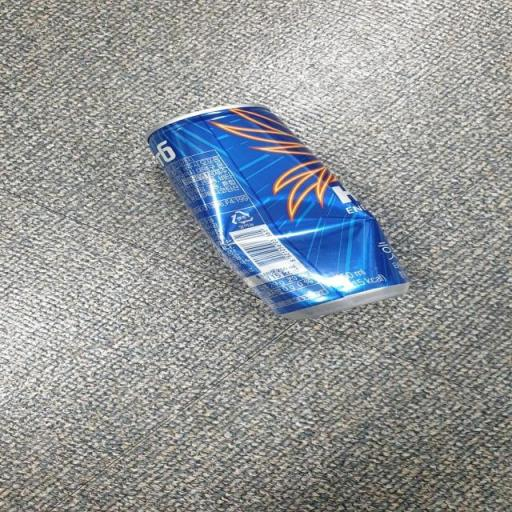metal: (114, 88, 434, 334)
